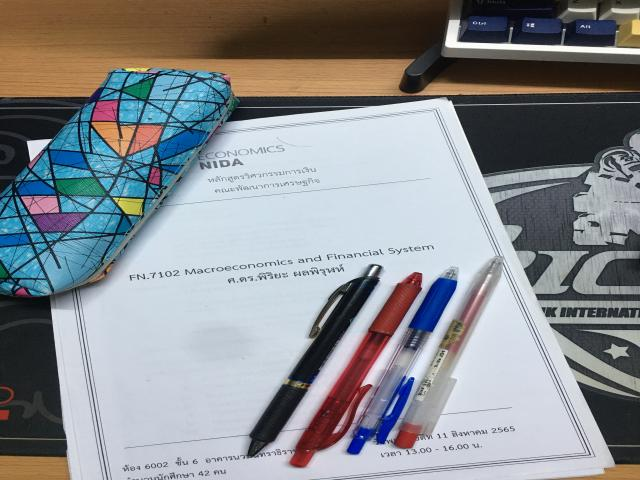Pen: (247, 264, 382, 457), (290, 272, 422, 467), (347, 267, 458, 454), (395, 256, 503, 448)
paper: (23, 99, 613, 480)
